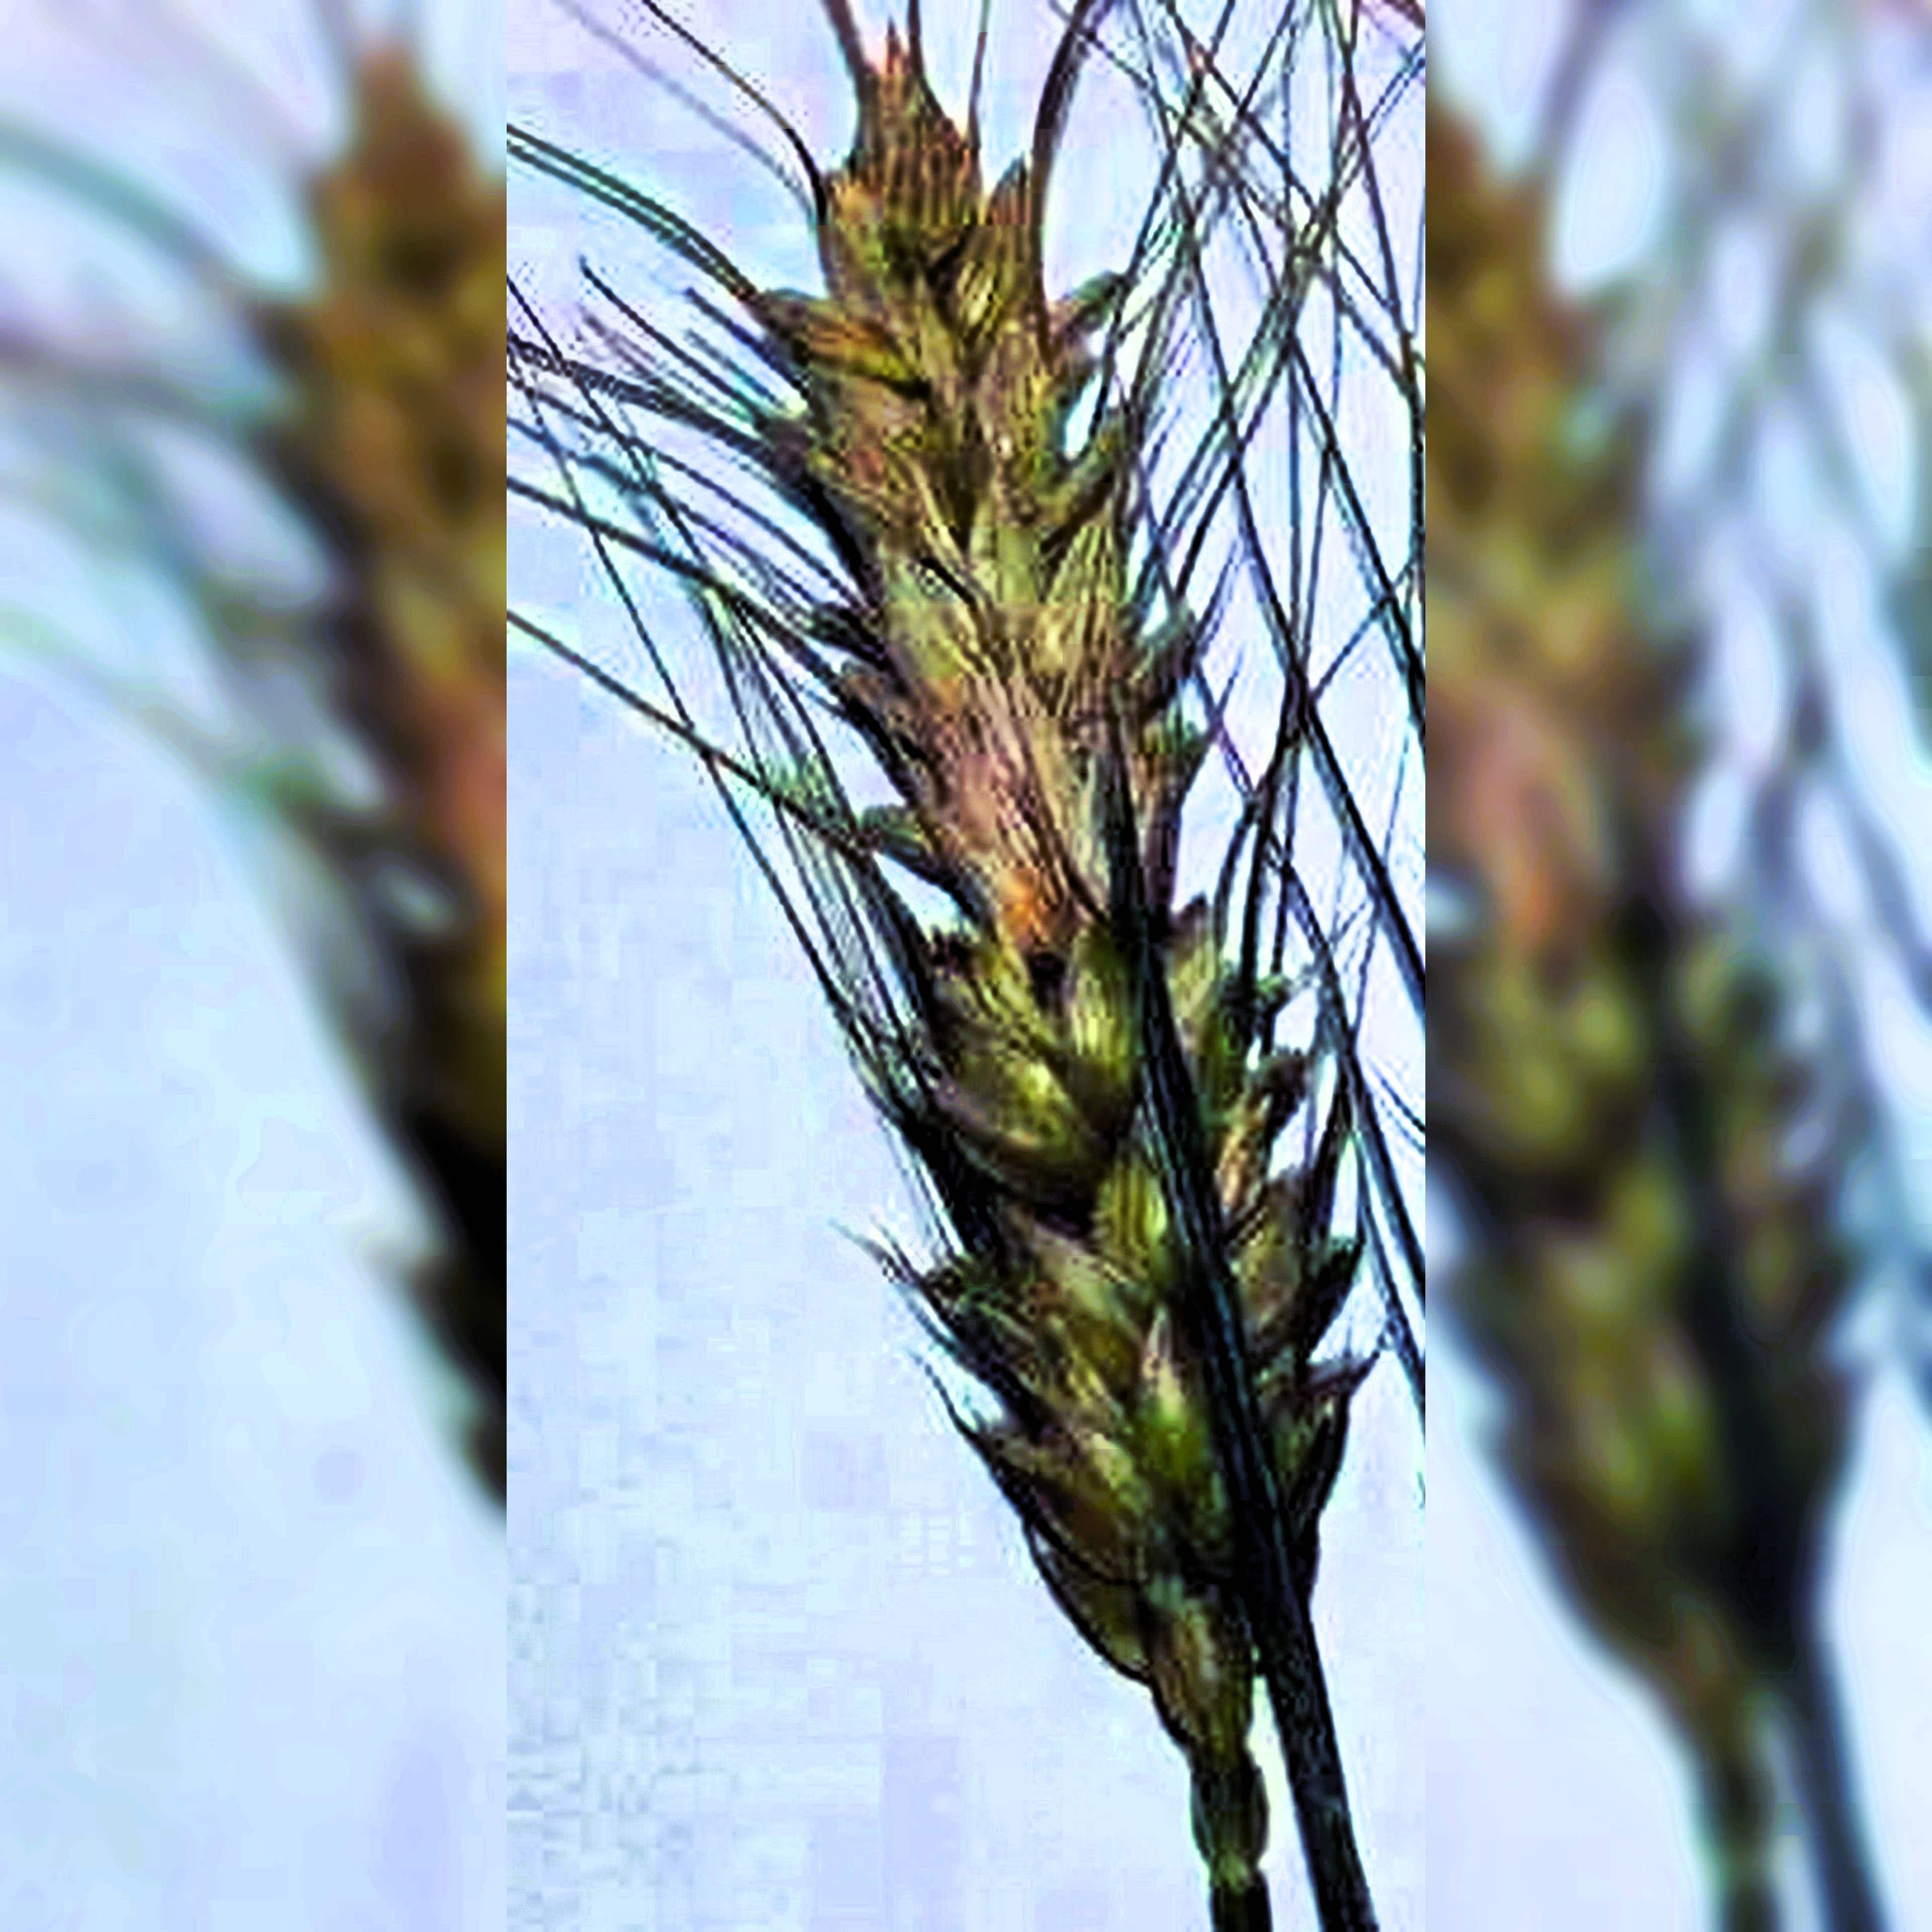Wheat scab: (793, 85, 1380, 1697)
